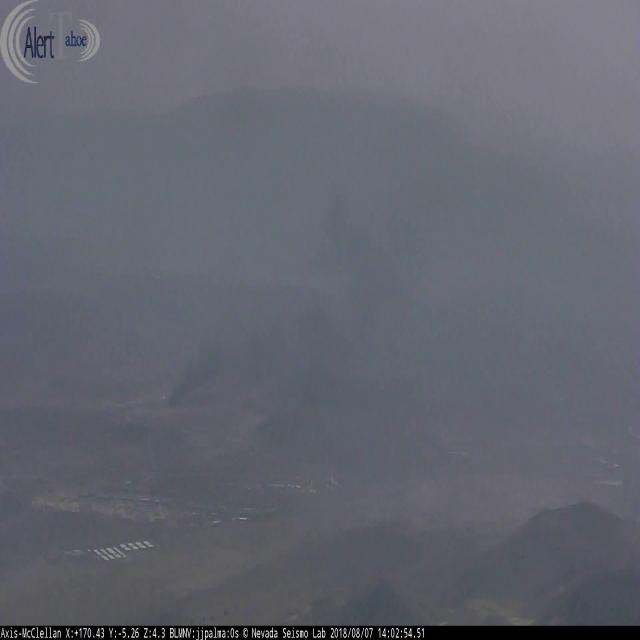smoke: (163, 297, 272, 413)
